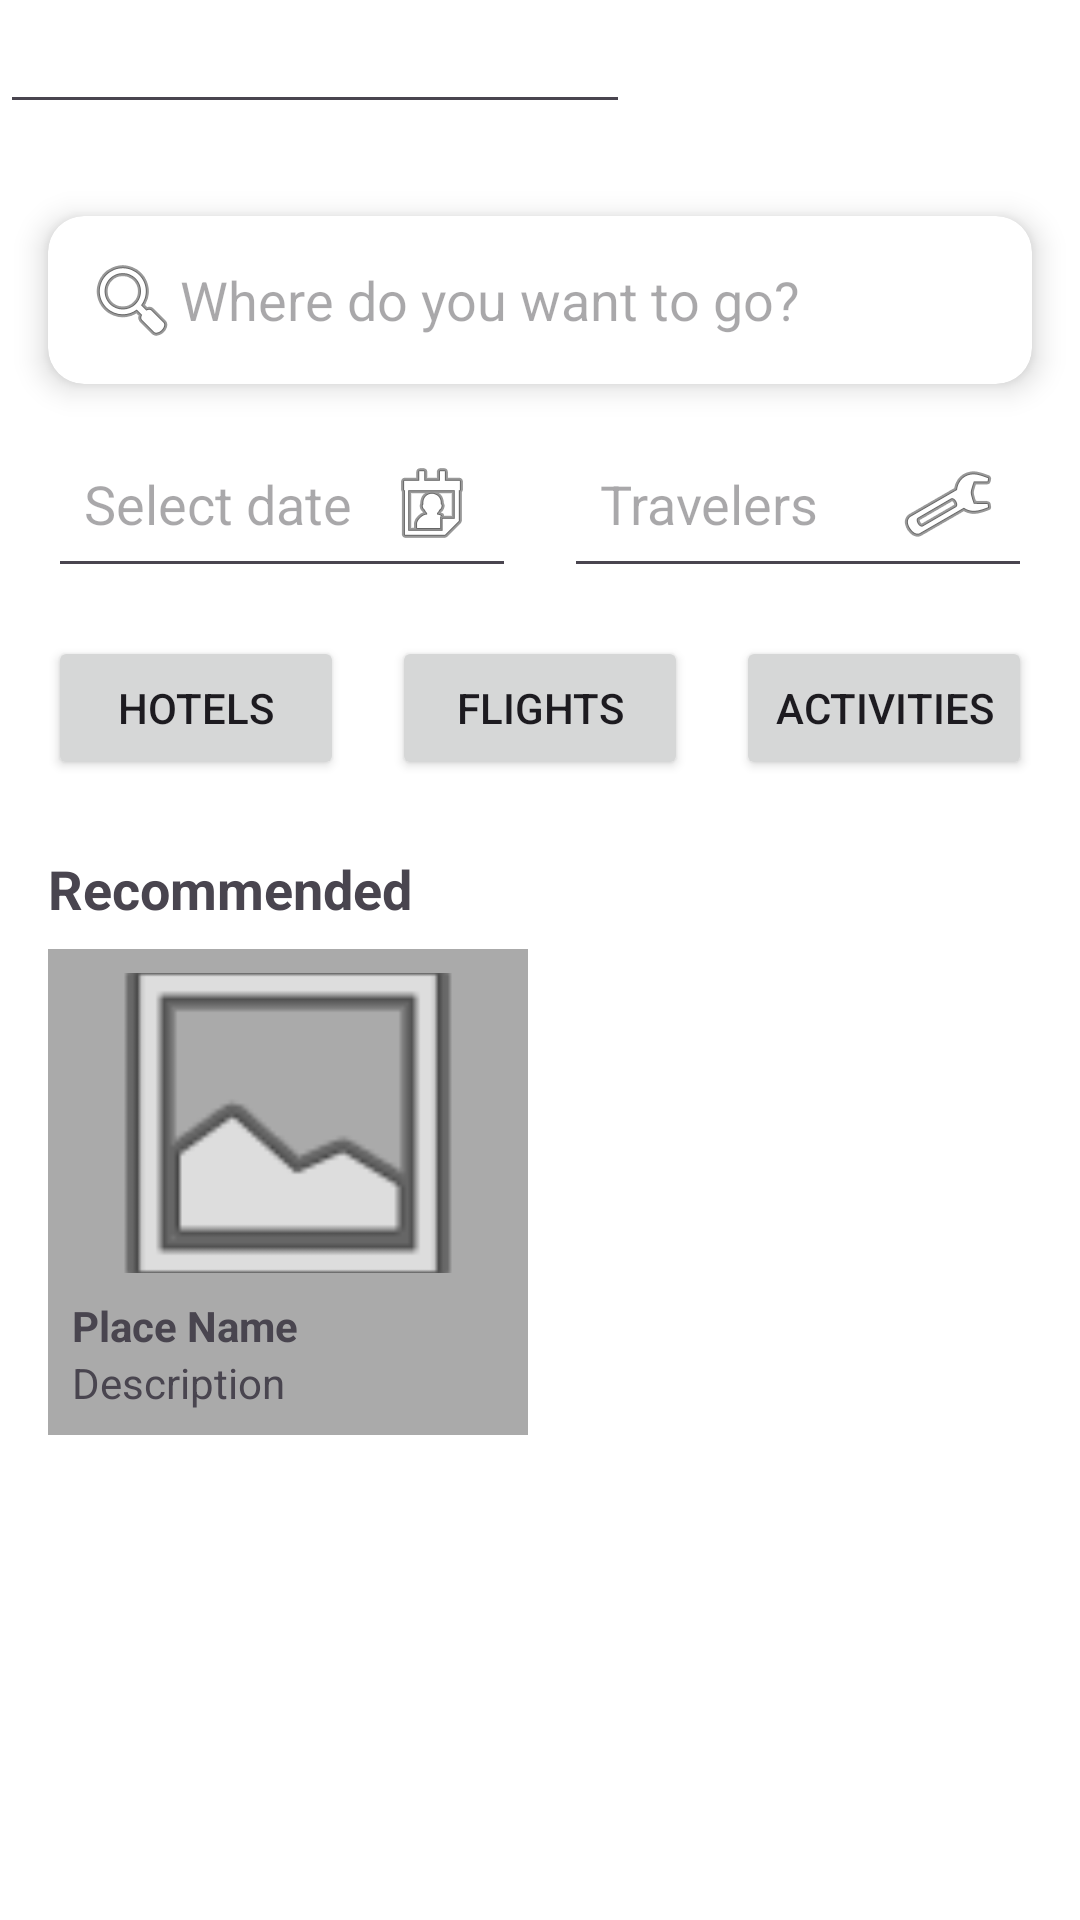

Icon click points for this 1080*1920 phone screenshot, format (x,y):
gallery: (288,1123)
